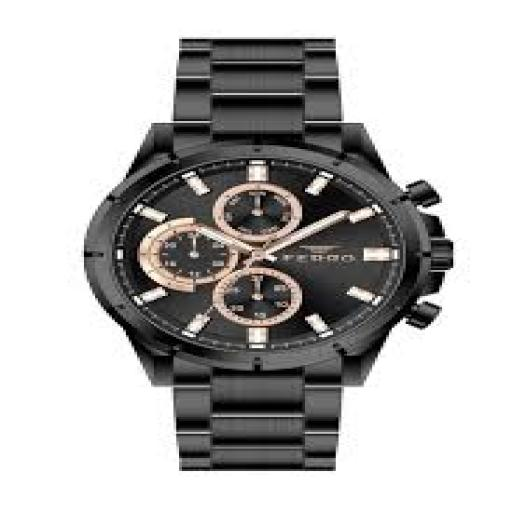KolSaati: (66, 16, 504, 486)
